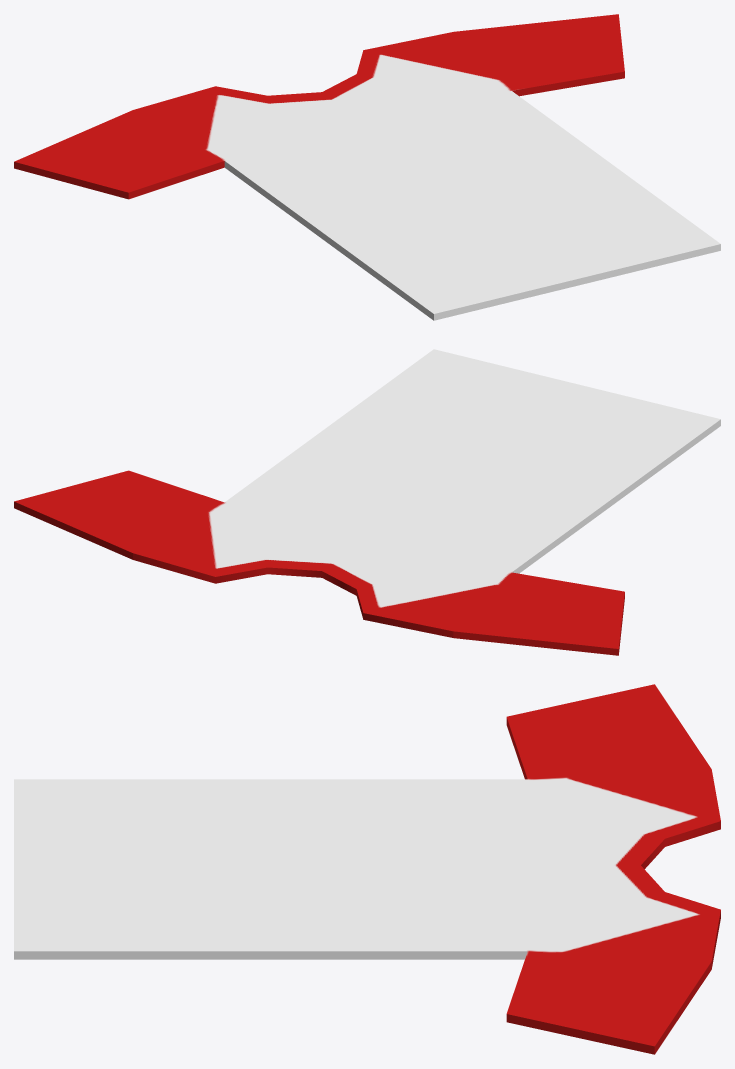
Rendered from Red Shirt.fbx.
The picture shows the model from 3 angles, top to bottom: view 1: azimuth 30°, elevation 25°; view 2: azimuth 150°, elevation 25°; view 3: azimuth 270°, elevation 25°; orthographic projection. The views are drawn at different scales.
Visible parts, largest first — view 1: Red_Shirt1; view 2: Red_Shirt1; view 3: Red_Shirt1.
Boxes of the visible parts, left/top/right/bottom form: Red_Shirt1: left=14, top=14, right=720, bottom=320; Red_Shirt1: left=14, top=349, right=720, bottom=655; Red_Shirt1: left=14, top=684, right=720, bottom=1054.
Bounding box in the file's own units: 3.66 × 0.039 × 3.02.
